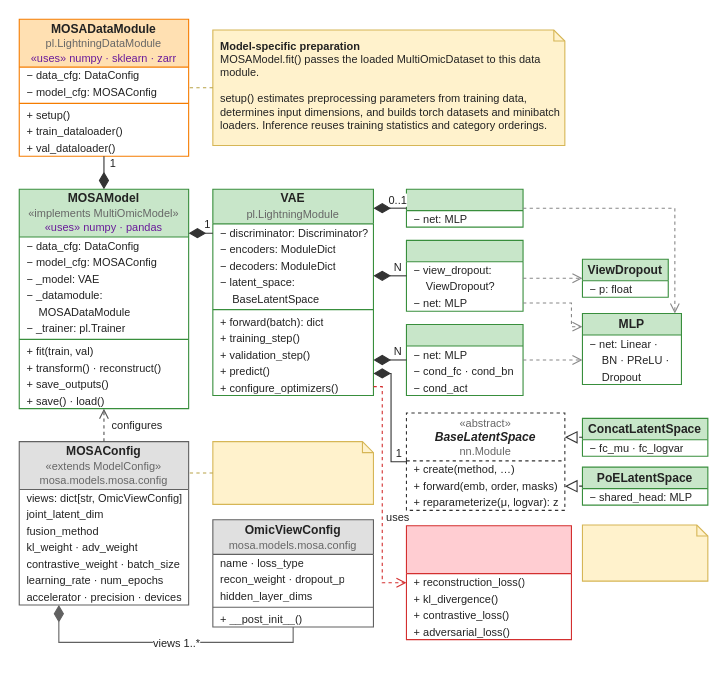
This 727x679 diagram has some shape labels left out. The shapes that lost their labels are listed below. From the top down, each one's box as (x1, y1, x2, y2) in pixels, then its label:
(405, 188, 523, 227): Discriminator
(405, 239, 523, 311): OmicEncoder
(405, 323, 523, 395): OmicDecoder
(212, 441, 373, 504): Defines fields for Model config Defines validations for each field
(581, 524, 708, 581): Network-component forward() methods are omitted for clarity.
(405, 525, 571, 640): losses «functions» mosa.models.mosa.vae.losses
